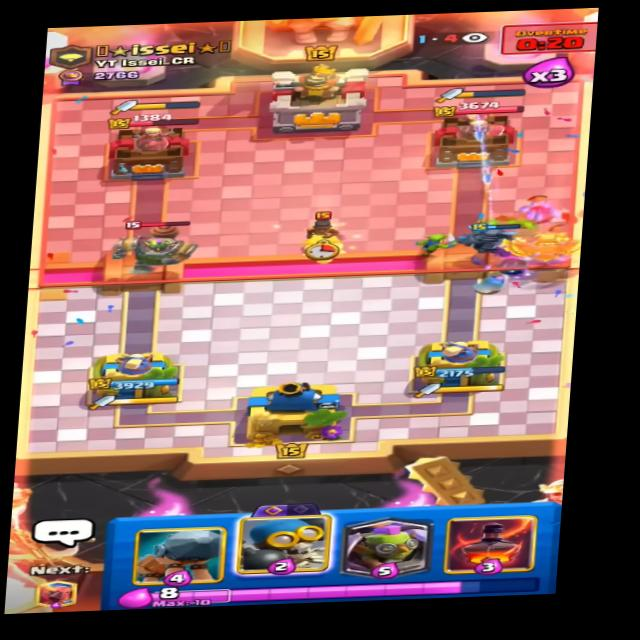goblin-machine: (109, 215, 211, 272)
ram-rider: (298, 207, 345, 262)
